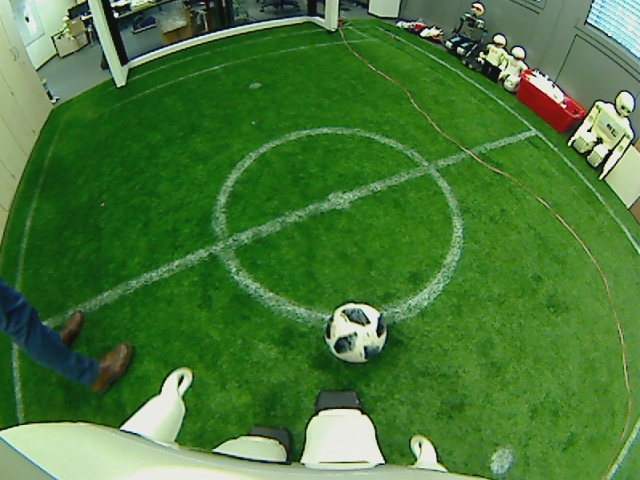ball: (325, 301, 389, 363)
